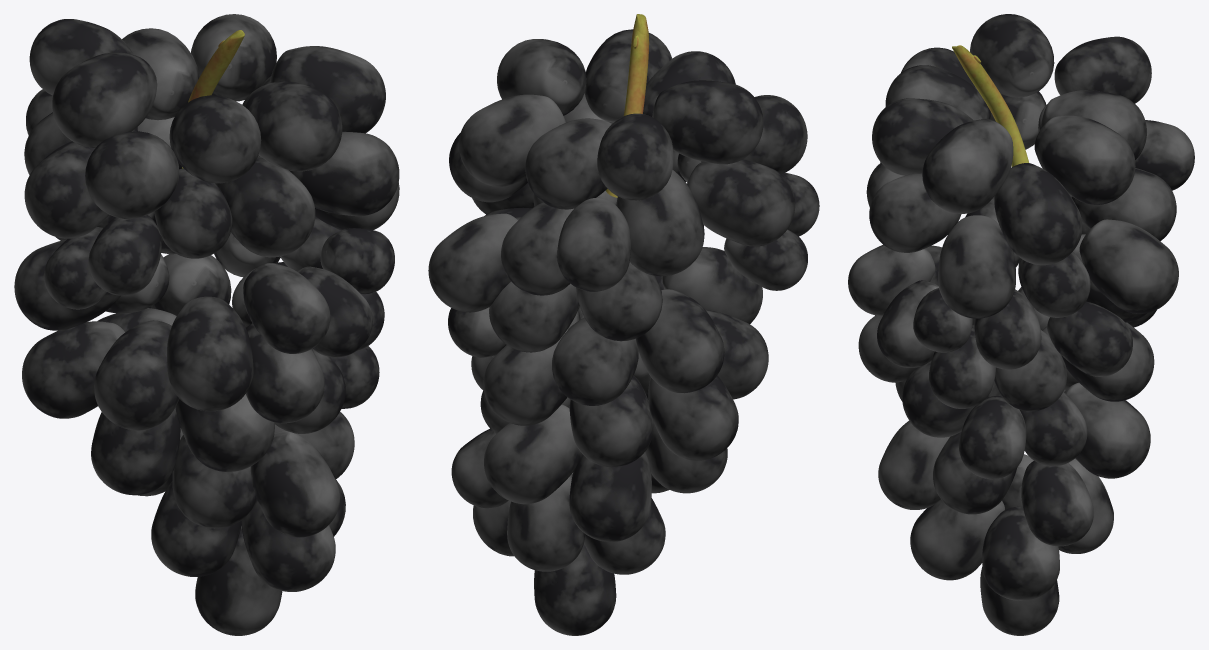
Rendered from grape_white.glb.
The picture shows the model from 3 angles, left to right: view 1: azimuth 30°, elevation 25°; view 2: azimuth 150°, elevation 25°; view 3: azimuth 270°, elevation 25°; orthographic projection. The views are drawn at different scales.
Parts seen in each view (by area): view 1: nurbsToPoly58_fruit_0_43, nurbsToPoly15_fruit_0_6, nurbsToPoly20_fruit_0_10, nurbsToPoly50_fruit_0_35, nurbsToPoly42_fruit_0_28, nurbsToPoly40_fruit_0_26, nurbsToPoly22_fruit_0_12, nurbsToPoly14_fruit_0_5, nurbsToPoly39_fruit_0_25, nurbsToPoly25_fruit_0_14, nurbsToPoly70_fruit_0_55, nurbsToPoly31_fruit_0_18 (+32 smaller); view 2: nurbsToPoly15_fruit_0_6, nurbsToPoly61_fruit_0_46, nurbsToPoly49_fruit_0_34, nurbsToPoly13_fruit_0_4, nurbsToPoly28_fruit_0_16, nurbsToPoly18_fruit_0_8, nurbsToPoly34_fruit_0_21, nurbsToPoly46_fruit_0_32, nurbsToPoly29_fruit_0_17, nurbsToPoly48_fruit_0_33, nurbsToPoly22_fruit_0_12, nurbsToPoly16_fruit_0_7 (+25 smaller); view 3: nurbsToPoly18_fruit_0_8, nurbsToPoly13_fruit_0_4, nurbsToPoly33_fruit_0_20, nurbsToPoly31_fruit_0_18, nurbsToPoly43_fruit_0_29, nurbsToPoly53_fruit_0_38, nurbsToPoly15_fruit_0_6, nurbsToPoly49_fruit_0_34, nurbsToPoly65_fruit_0_50, nurbsToPoly41_fruit_0_27, nurbsToPoly40_fruit_0_26, nurbsToPoly25_fruit_0_14 (+28 smaller).
Boxes of the visible parts, x1,y1,x2,y2 form: nurbsToPoly58_fruit_0_43: (167,296,253,411); nurbsToPoly15_fruit_0_6: (52,52,157,147); nurbsToPoly20_fruit_0_10: (250,430,339,537); nurbsToPoly50_fruit_0_35: (94,320,179,430); nurbsToPoly42_fruit_0_28: (216,156,315,257); nurbsToPoly40_fruit_0_26: (242,81,342,171); nurbsToPoly22_fruit_0_12: (22,321,125,418); nurbsToPoly14_fruit_0_5: (85,131,179,218); nurbsToPoly39_fruit_0_25: (169,95,261,183); nurbsToPoly25_fruit_0_14: (289,131,399,216); nurbsToPoly70_fruit_0_55: (243,263,330,353); nurbsToPoly31_fruit_0_18: (270,46,385,133); nurbsToPoly15_fruit_0_6: (652,80,763,164); nurbsToPoly61_fruit_0_46: (687,159,795,246); nurbsToPoly49_fruit_0_34: (484,404,582,504); nurbsToPoly13_fruit_0_4: (459,94,565,186); nurbsToPoly28_fruit_0_16: (636,289,724,393); nurbsToPoly18_fruit_0_8: (428,213,517,312); nurbsToPoly34_fruit_0_21: (616,170,704,276); nurbsToPoly46_fruit_0_32: (569,452,651,541); nurbsToPoly29_fruit_0_17: (525,118,611,209); nurbsToPoly48_fruit_0_33: (557,198,630,291); nurbsToPoly22_fruit_0_12: (648,375,738,460); nurbsToPoly16_fruit_0_7: (597,113,673,200); nurbsToPoly18_fruit_0_8: (1079,219,1178,313); nurbsToPoly13_fruit_0_4: (1034,115,1135,204); nurbsToPoly33_fruit_0_20: (994,163,1082,265); nurbsToPoly31_fruit_0_18: (922,119,1013,213); nurbsToPoly43_fruit_0_29: (938,215,1015,318); nurbsToPoly53_fruit_0_38: (982,506,1059,600); nurbsToPoly15_fruit_0_6: (970,14,1054,97); nurbsToPoly49_fruit_0_34: (1064,382,1150,478); nurbsToPoly65_fruit_0_50: (1021,461,1093,546); nurbsToPoly41_fruit_0_27: (910,499,1004,580); nurbsToPoly40_fruit_0_26: (872,98,973,175); nurbsToPoly25_fruit_0_14: (869,172,961,252).
Bounding box in the file's own units: 3.54 × 6.17 × 3.38.
Materials: 2 (2 with a texture image).
